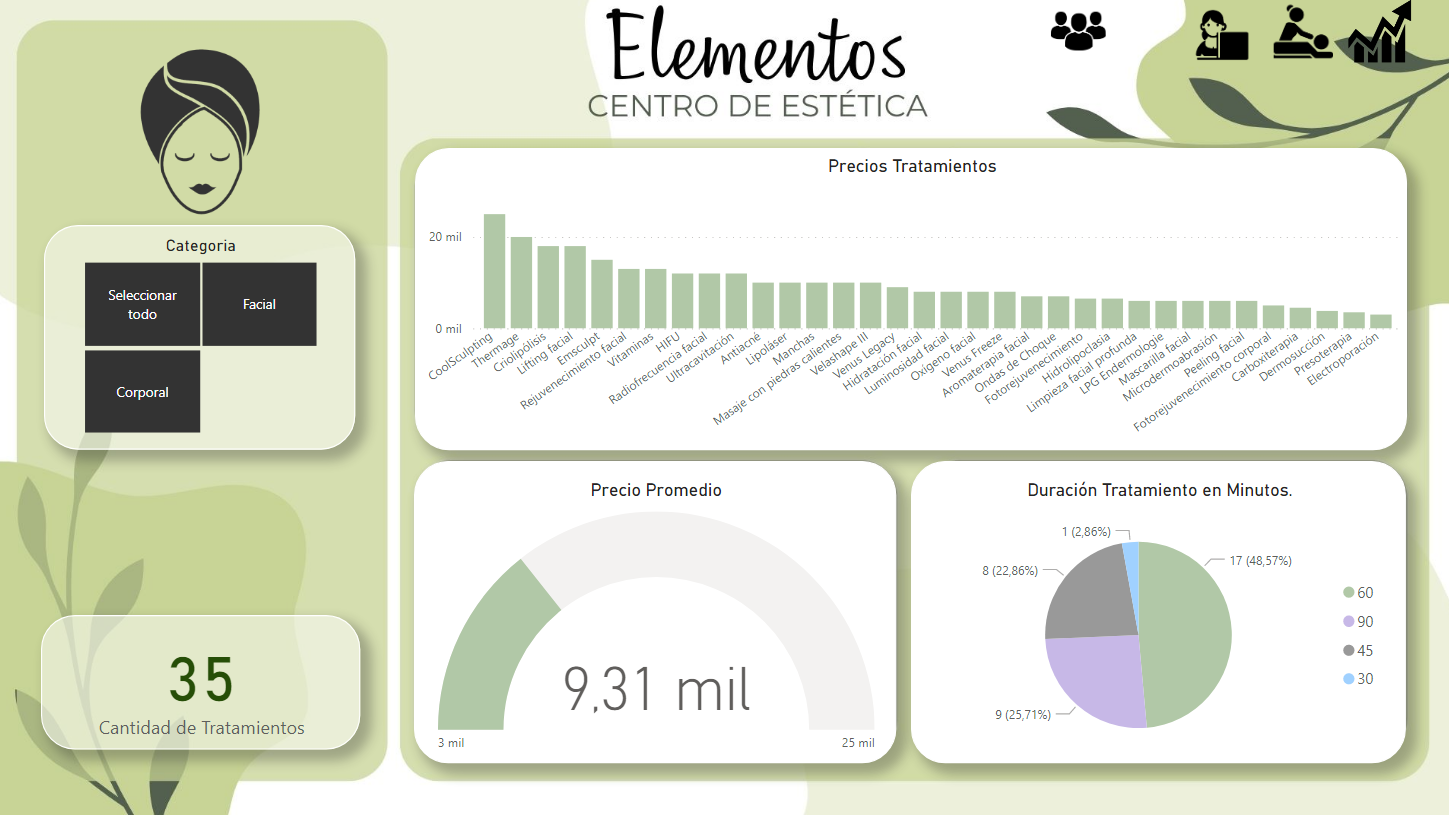

What the dashboard file says about the page in this screenshot:
{"tool":"powerbi","page":{"name":"TRATAMIENTOS","canvas":[1280,720],"ordinal":4},"visuals":[{"type":"card","fields":{"Values":["Calculos.Cantidad de Tratamientos"]},"box":[40.9,544.7,280.1,117.7],"z":0},{"type":"image","box":[43.8,37.4,272.7,165.7],"z":1000},{"type":"image","box":[1012.5,0,127.6,74.1],"z":2000},{"type":"image","box":[1117.4,2.1,61.7,61.7],"z":3000},{"type":"image","box":[912.7,10.3,75.1,44.2],"z":4000},{"type":"columnChart","title":"Precios Tratamientos","fields":{"Category":["tratamientos.nombre_tratamiento"],"Y":["Sum(tratamientos.precio_tratamiento)"]},"box":[368.9,134.7,870.4,265.2],"z":5000},{"type":"slicer","title":"Categoria","fields":{"Values":["tratamientos.categoria"]},"box":[44.2,261.2,273.3,196.9],"z":6000},{"type":"gauge","title":"Precio Promedio","fields":{"Y":["Avg(tratamientos.precio_tratamiento)"],"MinValue":["Min(tratamientos.precio_tratamiento)1"],"MaxValue":["Max(tratamientos.precio_tratamiento)2"]},"box":[368.5,409.8,422.9,265.4],"z":7000},{"type":"pieChart","title":"Duración Tratamiento en Minutos.","fields":{"Y":["CountNonNull(tratamientos.duracion_tratamiento)"],"Category":["tratamientos.duracion_tratamiento"]},"box":[804.6,409.8,434.2,265.4],"z":8000},{"type":"image","box":[1163.5,0,103.5,65.3],"z":8001}]}

Visuals, with their boxes in screenshot pixels (x1, y1, x2, y2), scaled from the page's 1280x720 canvas onto the 1449x815 screenshot:
card - Calculos.Cantidad de Tratamientos: bbox=[46, 617, 363, 750]
image: bbox=[50, 42, 358, 230]
image: bbox=[1146, 0, 1291, 84]
image: bbox=[1265, 2, 1335, 72]
image: bbox=[1033, 12, 1118, 62]
"Precios Tratamientos" columnChart: bbox=[418, 152, 1403, 453]
"Categoria" slicer: bbox=[50, 296, 359, 519]
"Precio Promedio" gauge: bbox=[417, 464, 896, 764]
"Duración Tratamiento en Minutos." pieChart: bbox=[911, 464, 1402, 764]
image: bbox=[1317, 0, 1434, 74]
